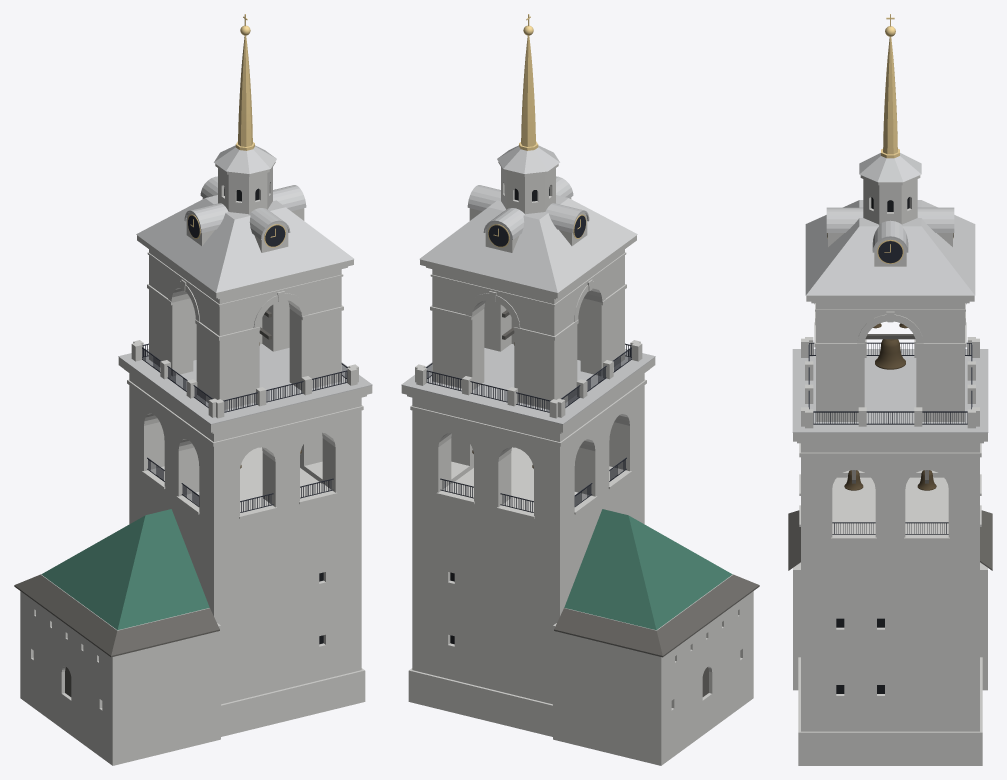
File: SM_TrinityBelfry.glb
The picture shows the model from 3 angles, left to right: view 1: azimuth 30°, elevation 25°; view 2: azimuth 150°, elevation 25°; view 3: azimuth 270°, elevation 25°; orthographic projection. The views are drawn at different scales.
Parts seen in each view (by area): view 1: SM_TrinityBelfry; view 2: SM_TrinityBelfry; view 3: SM_TrinityBelfry.
Part boxes in pixels (bbox=[...]): SM_TrinityBelfry: bbox=[14, 14, 372, 765]; SM_TrinityBelfry: bbox=[401, 14, 759, 765]; SM_TrinityBelfry: bbox=[788, 14, 992, 765].
Size of the model in its own units: 23.73 by 58 by 15.1.
